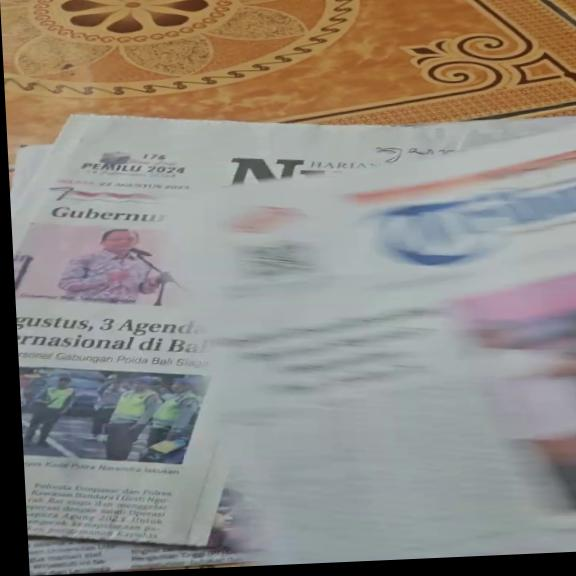Kertas: (8, 123, 576, 566)
